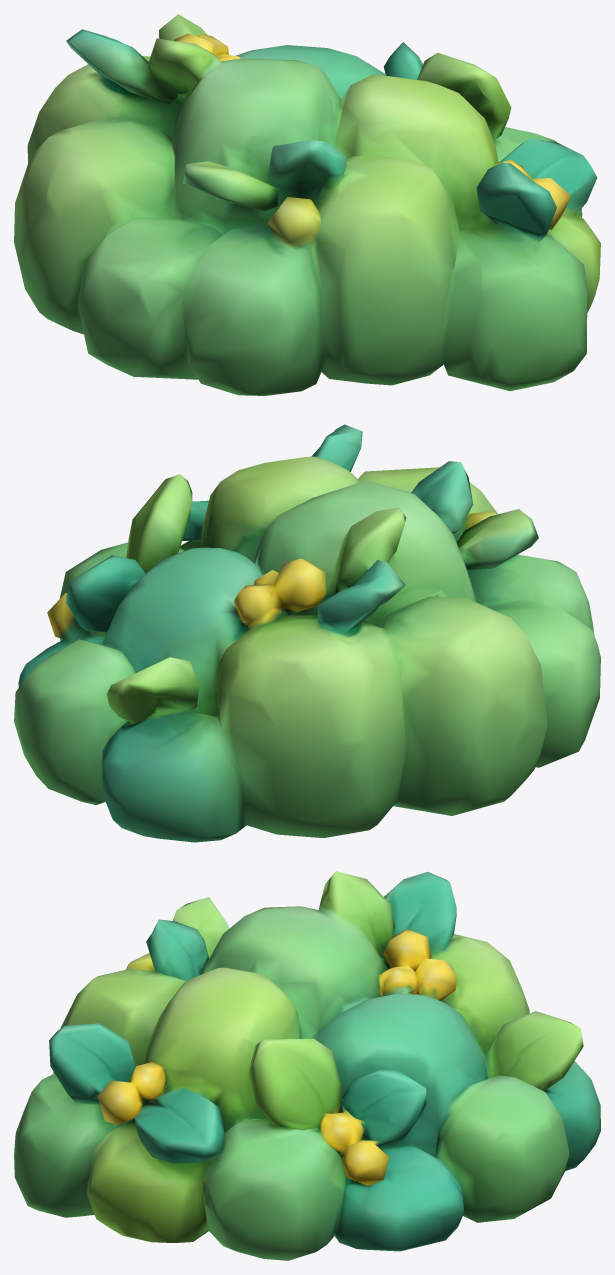
File: Kit_M_BushB_raw.glb
3 views of the same model, one above another, from view 1: azimuth 30°, elevation 25°; view 2: azimuth 150°, elevation 25°; view 3: azimuth 270°, elevation 25° (orthographic). The views are drawn at different scales.
Visible parts, largest first — view 1: tripo_node_352c321e-b6e2-4257-a53b-5f0b8e9ff94a; view 2: tripo_node_352c321e-b6e2-4257-a53b-5f0b8e9ff94a; view 3: tripo_node_352c321e-b6e2-4257-a53b-5f0b8e9ff94a.
Boxes of the visible parts, x1,y1,x2,y2 form: tripo_node_352c321e-b6e2-4257-a53b-5f0b8e9ff94a: (14,14,600,395); tripo_node_352c321e-b6e2-4257-a53b-5f0b8e9ff94a: (14,424,600,842); tripo_node_352c321e-b6e2-4257-a53b-5f0b8e9ff94a: (14,871,600,1260).
Bounding box in the file's own units: 0.8934 × 0.4639 × 1.
1 material, 1 textured.
